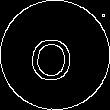O_N: (31, 28, 79, 82)
